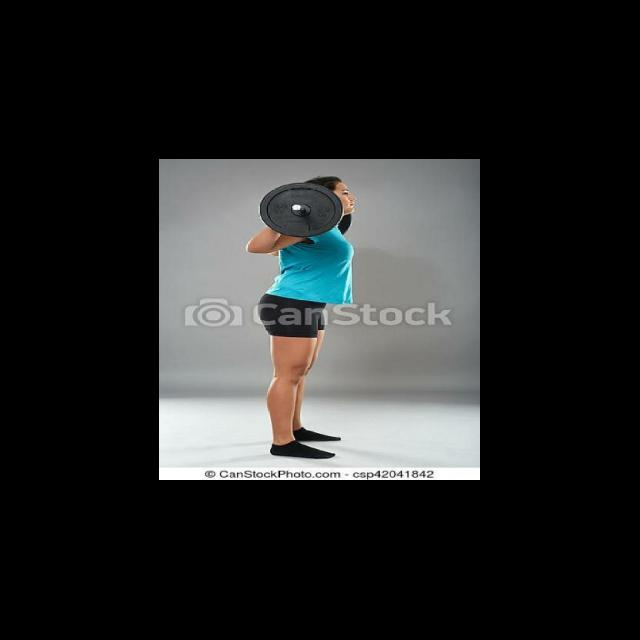barbell: (260, 181, 345, 239)
